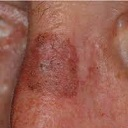Actinic: (18, 32, 81, 99)
